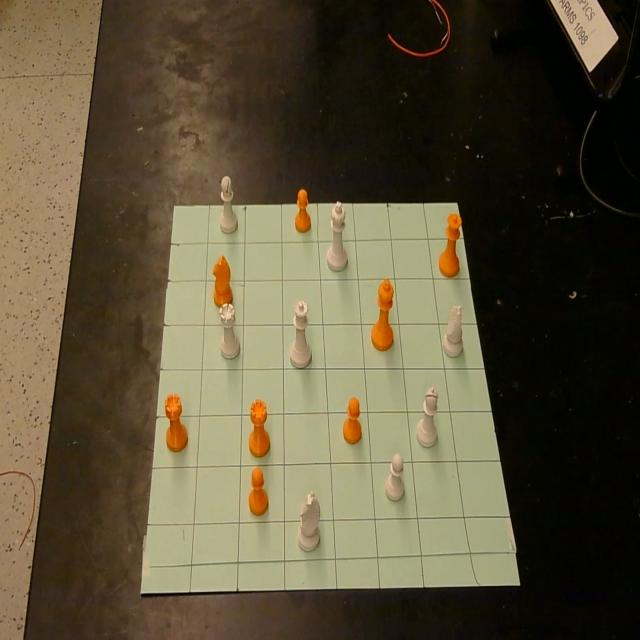orange_king: (372, 278, 394, 352)
orange_knight: (212, 255, 233, 309)
orange_pawn: (248, 466, 269, 516), (342, 397, 362, 444), (295, 188, 311, 232)
orange_queen: (439, 212, 462, 277)
orange_rook: (165, 393, 188, 452), (248, 399, 270, 457)
white_bishop: (416, 388, 438, 448), (220, 176, 238, 233)
white_king: (326, 201, 348, 271)
white_knight: (297, 491, 321, 552), (443, 304, 463, 358)
white_pawn: (384, 453, 404, 502)
white_queen: (290, 299, 312, 368)
white_rook: (218, 301, 240, 358)
